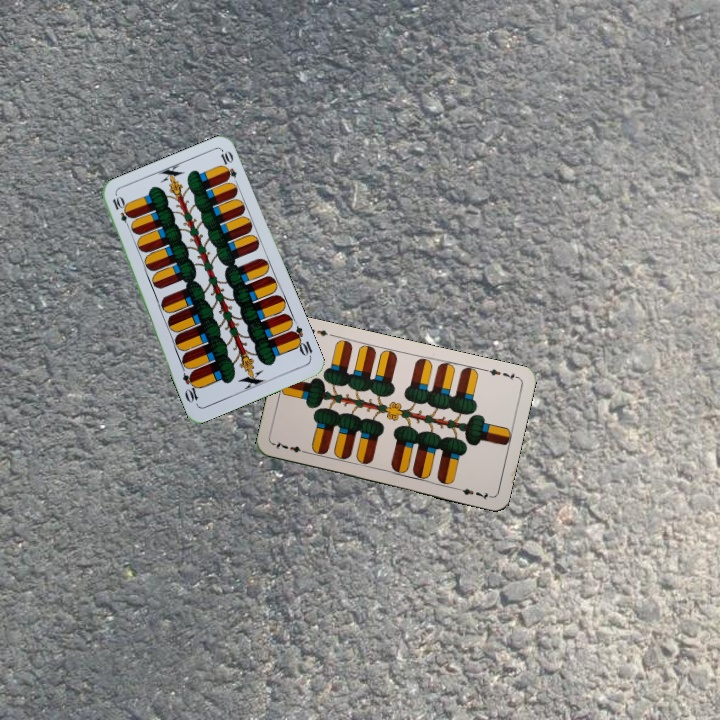E10: (286, 322, 315, 361), (108, 192, 134, 232)
E7: (270, 437, 310, 456), (480, 365, 521, 383)
